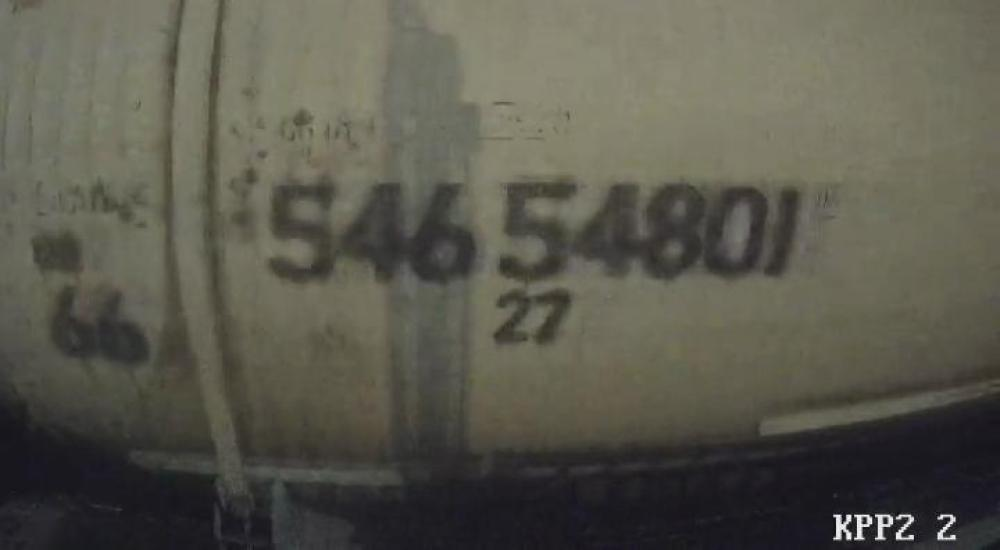Wagon-number: (264, 173, 807, 289)
